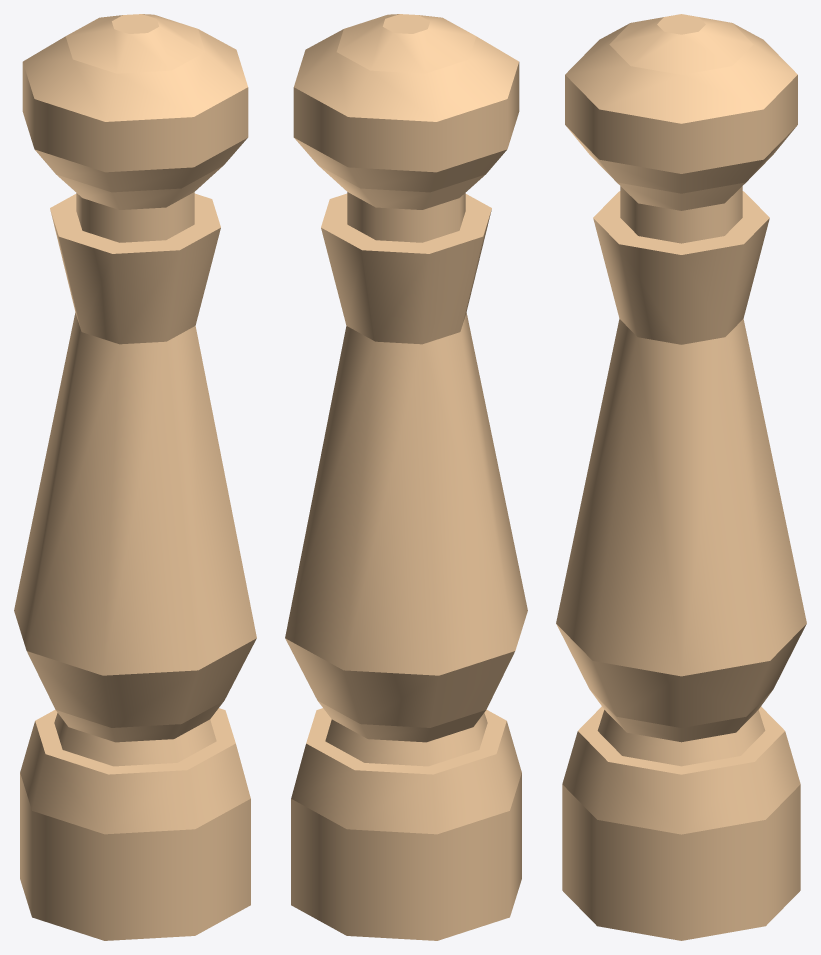
File: Pepper Mill.glb
3 renders of one model, left to right at view 1: azimuth 30°, elevation 25°; view 2: azimuth 150°, elevation 25°; view 3: azimuth 270°, elevation 25°, orthographic.
Visible parts, largest first — view 1: Pepper Mill; view 2: Pepper Mill; view 3: Pepper Mill.
Part boxes in pixels (<box>): Pepper Mill: <box>14,14,256,940</box>; Pepper Mill: <box>285,14,527,940</box>; Pepper Mill: <box>556,14,806,940</box>.
Bounding box in the file's own units: 0.0621 × 0.2364 × 0.0621.
